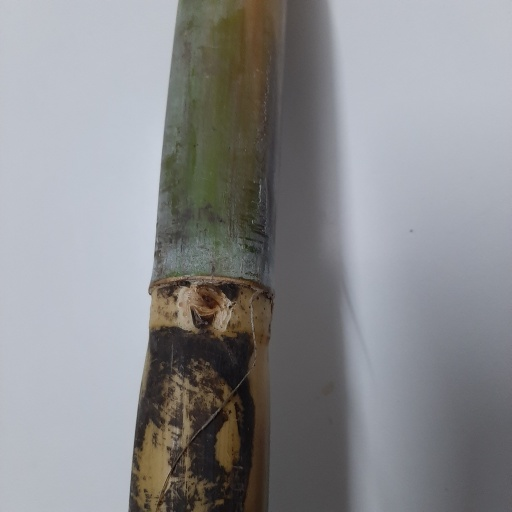Damage_Bud: (189, 284, 222, 328)
